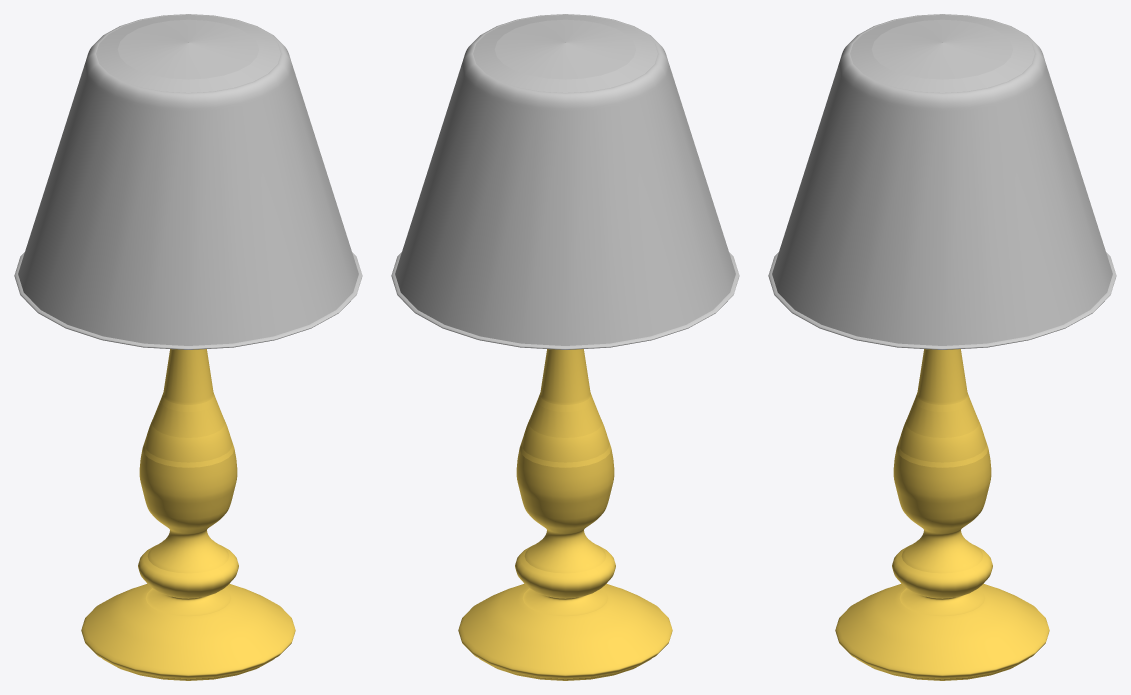
The model's file is Lamp.fbx.
3 renders of one model, left to right at view 1: azimuth 30°, elevation 25°; view 2: azimuth 150°, elevation 25°; view 3: azimuth 270°, elevation 25°, orthographic.
Visible parts, largest first — view 1: Lathe_1_2, Lathe_2; view 2: Lathe_1_2, Lathe_2; view 3: Lathe_1_2, Lathe_2.
Part boxes in pixels (box(x1,y1,x2,y2)): Lathe_1_2: box(14, 14, 362, 349); Lathe_2: box(81, 349, 295, 680); Lathe_1_2: box(391, 14, 739, 349); Lathe_2: box(458, 349, 672, 680); Lathe_1_2: box(768, 14, 1116, 349); Lathe_2: box(835, 349, 1049, 680).
Bounding box in the file's own units: 396 × 761 × 396.
